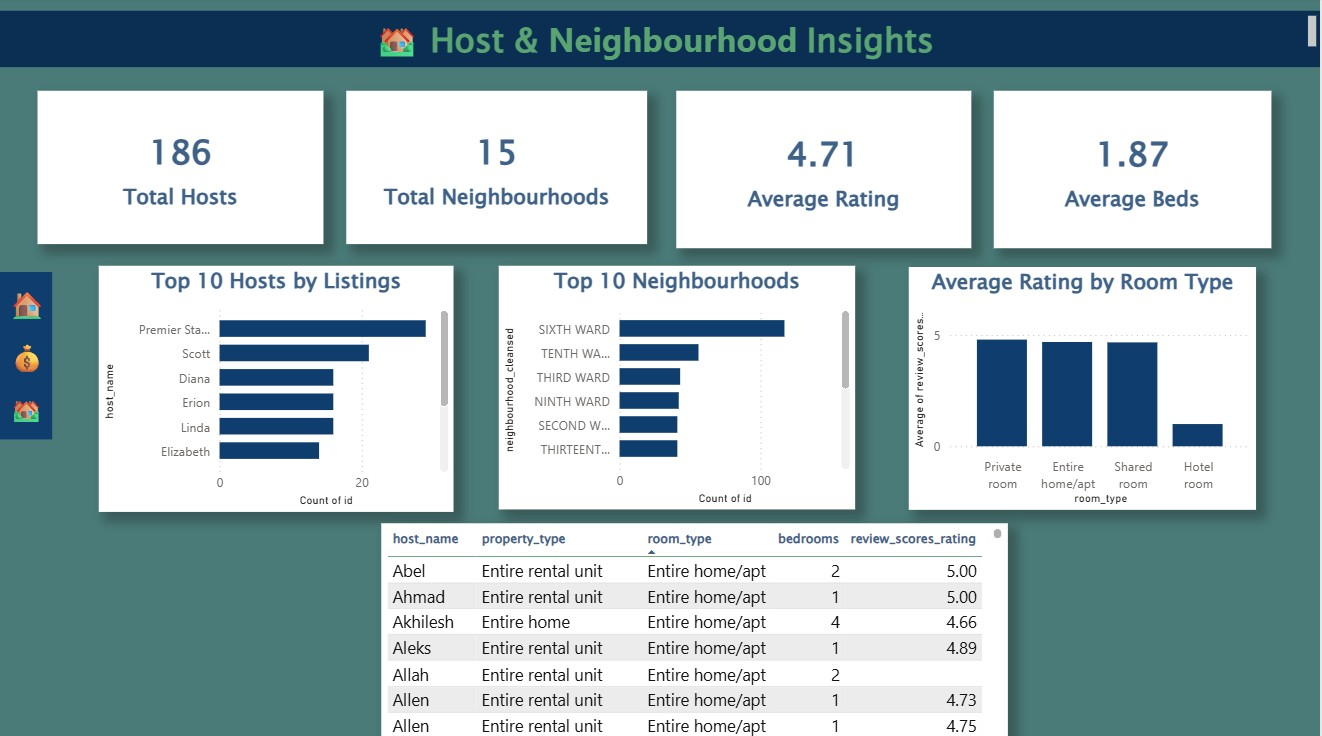

What the dashboard file says about the page in this screenshot:
{"tool":"powerbi","page":{"name":"Host & Neighbourhood Insights","canvas":[1280,720],"ordinal":2},"visuals":[{"type":"textbox","box":[0,13.3,1280,54.3],"z":0},{"type":"card","fields":{"Values":["Fields.Total Hosts"]},"box":[41,90.5,276.3,148.4],"z":1000},{"type":"card","fields":{"Values":["Fields.Total Neighbourhoods"]},"box":[339,90.5,290.8,148.4],"z":2000},{"type":"card","fields":{"Values":["Fields.Average Rating"]},"box":[657.5,90.5,284.7,152],"z":3000},{"type":"card","fields":{"Values":["Fields.Average Beds"]},"box":[963.9,90.5,267.8,152],"z":4000},{"type":"clusteredBarChart","title":"Top 10 Hosts by Listings","fields":{"Category":["Listings.host_name"],"Y":["CountNonNull(Listings.id)"]},"box":[100.1,259.4,342.6,237.7],"z":5000},{"type":"clusteredBarChart","title":"Top 10 Neighbourhoods","fields":{"Category":["Listings.neighbourhood_cleansed"],"Y":["CountNonNull(Listings.id)"]},"box":[486.2,259.4,343.8,235.3],"z":6000},{"type":"columnChart","title":"Average Rating by Room Type","fields":{"Category":["Listings.room_type"],"Y":["Avg(Listings.review_scores_rating)"]},"box":[881.9,260.6,335.4,234],"z":7000},{"type":"tableEx","fields":{"Values":["Listings.host_name","Listings.property_type","Listings.room_type","Listings.bedrooms","Listings.review_scores_rating"]},"box":[372.8,507.9,604.4,212.3],"z":8000},{"type":"textbox","box":[0,265.4,55.5,161.7],"z":8004},{"type":"actionButton","box":[8.4,273.9,39.8,39.8],"z":8005},{"type":"actionButton","box":[8.4,325.7,38.6,39.8],"z":8006},{"type":"actionButton","box":[8.4,377.6,43.4,39.8],"z":8007}]}

Visuals, with their boxes in screenshot pixels (x1, y1, x2, y2), scaled from the page's 1280x720 canvas onto the 1322x736 screenshot:
textbox: (0, 14, 1321, 69)
card - Fields.Total Hosts: (42, 93, 328, 244)
card - Fields.Total Neighbourhoods: (350, 93, 650, 244)
card - Fields.Average Rating: (679, 93, 973, 248)
card - Fields.Average Beds: (996, 93, 1272, 248)
"Top 10 Hosts by Listings" clusteredBarChart: (103, 265, 457, 508)
"Top 10 Neighbourhoods" clusteredBarChart: (502, 265, 857, 506)
"Average Rating by Room Type" columnChart: (911, 266, 1257, 506)
tableEx - Listings.host_name x Listings.property_type: (385, 519, 1009, 735)
textbox: (0, 271, 57, 437)
actionButton: (9, 280, 50, 321)
actionButton: (9, 333, 49, 374)
actionButton: (9, 386, 53, 427)
